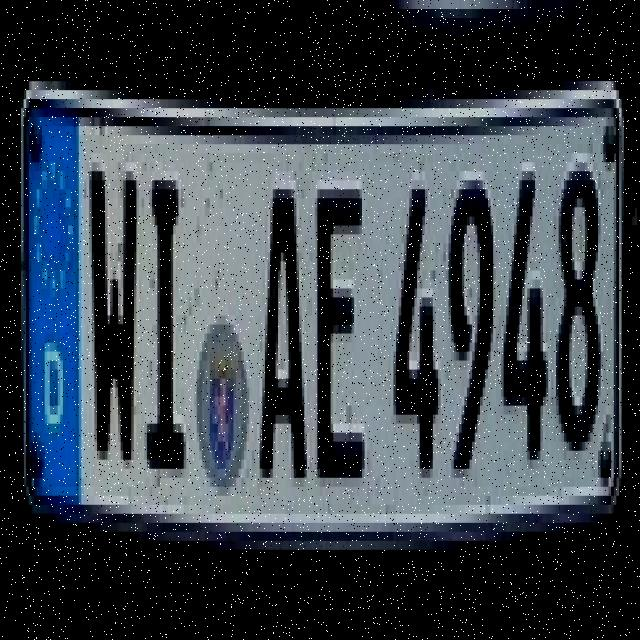licenseplate: (18, 73, 622, 576)
